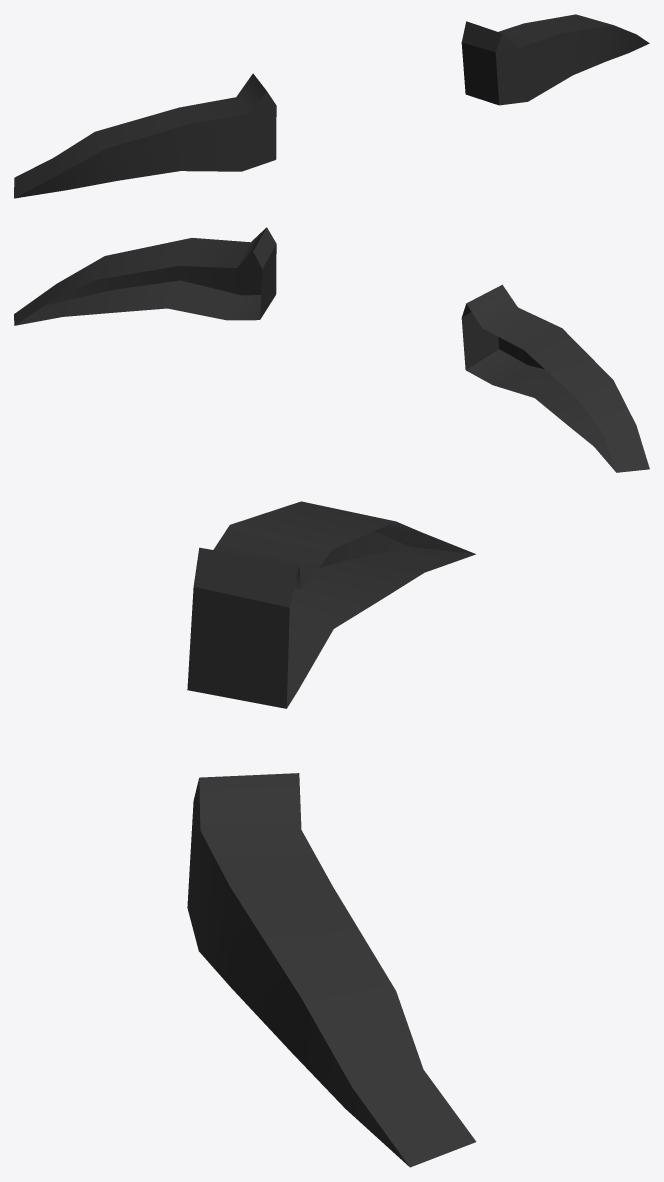
File: Eyebrow_6.fbx
3 views of the same model, one above another, from view 1: azimuth 30°, elevation 25°; view 2: azimuth 150°, elevation 25°; view 3: azimuth 270°, elevation 25° (orthographic). The views are drawn at different scales.
Visible parts, largest first — view 1: Eyebrow_6; view 2: Eyebrow_6; view 3: Eyebrow_6.
Boxes of the visible parts, bbox=[...] form: Eyebrow_6: bbox=[14, 14, 649, 198]; Eyebrow_6: bbox=[14, 227, 649, 472]; Eyebrow_6: bbox=[187, 501, 476, 1167].
Size of the model in its own units: 32.72 by 4.78 by 6.44.
